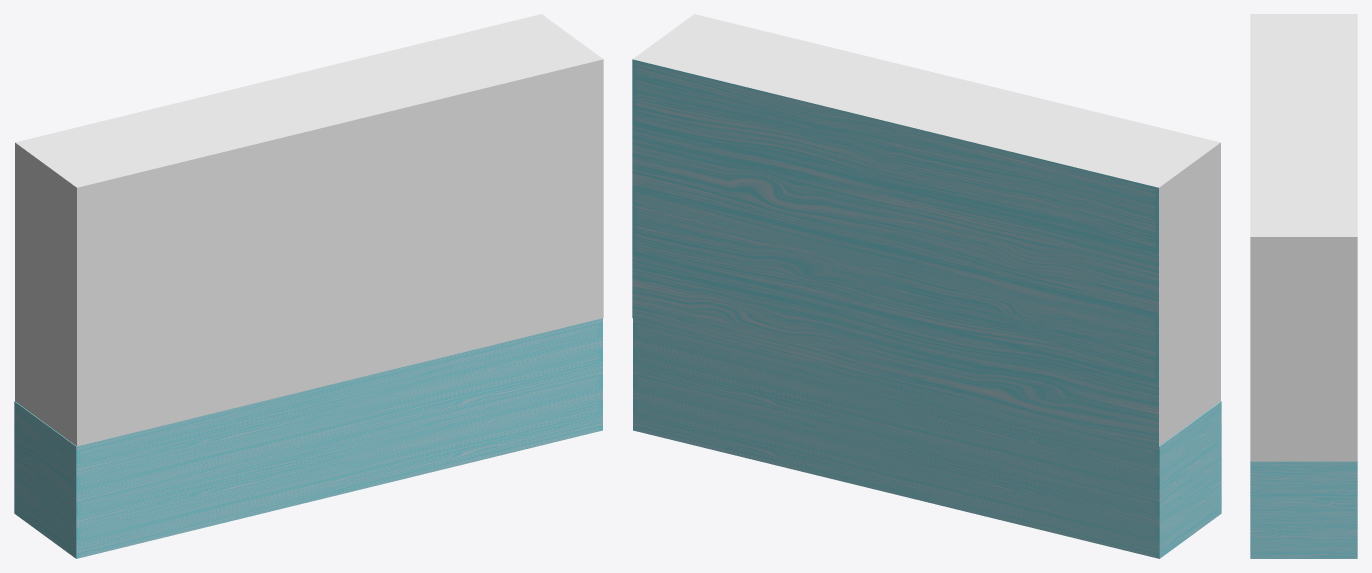
Rendered from DisplayedCase.fbx.
The picture shows the model from 3 angles, left to right: view 1: azimuth 30°, elevation 25°; view 2: azimuth 150°, elevation 25°; view 3: azimuth 270°, elevation 25°; orthographic projection. The views are drawn at different scales.
Visible parts, largest first — view 1: displayed_1, bottomdisplayed; view 2: displayed_1, bottomdisplayed, shelf; view 3: displayed_1, bottomdisplayed.
Part boxes in pixels (x1,y1,x2,y2): displayed_1: (15, 14, 603, 446); bottomdisplayed: (14, 318, 602, 558); displayed_1: (632, 14, 1220, 446); bottomdisplayed: (633, 318, 1221, 558); shelf: (637, 199, 1154, 332); displayed_1: (1250, 14, 1357, 461); bottomdisplayed: (1250, 461, 1357, 558).
Bounding box in the file's own units: 88.04 × 59.2 × 17.91.
Materials: 2 (1 with a texture image).
